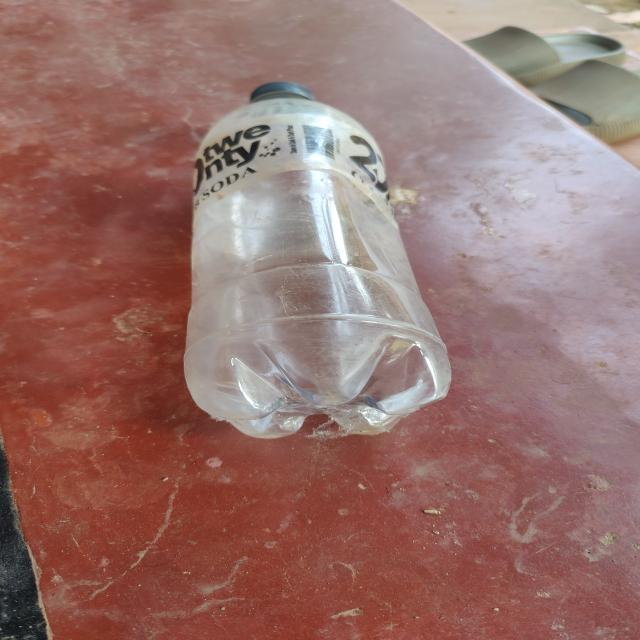plastic: (170, 79, 464, 444)
